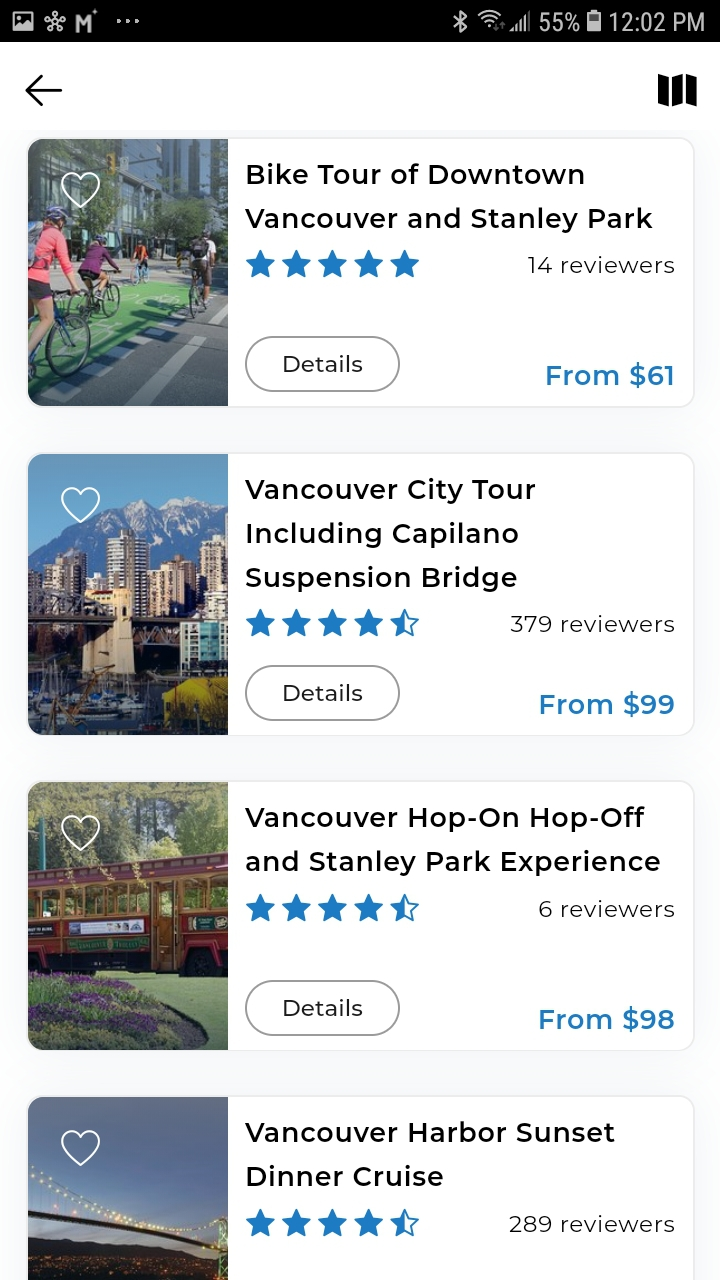Icon: (246, 1208, 420, 1237), (246, 893, 420, 922), (246, 609, 420, 638), (246, 250, 420, 278), (61, 1129, 101, 1167), (61, 486, 101, 524), (61, 815, 102, 852), (62, 172, 101, 209), (657, 74, 697, 108), (26, 75, 63, 108)
Image: (29, 454, 229, 736), (28, 782, 229, 1051), (29, 140, 229, 407), (28, 1097, 229, 1280)
Text: (245, 478, 536, 594), (246, 806, 660, 878), (245, 164, 653, 235), (245, 1121, 616, 1187), (540, 1005, 675, 1033), (540, 691, 675, 718), (546, 362, 673, 389), (509, 1214, 674, 1233), (512, 615, 674, 633), (528, 256, 675, 275), (540, 900, 674, 919)
TextButton: (245, 664, 401, 722), (245, 980, 401, 1037), (245, 336, 401, 393)
UpperTaskBar: (1, 1, 720, 43)
